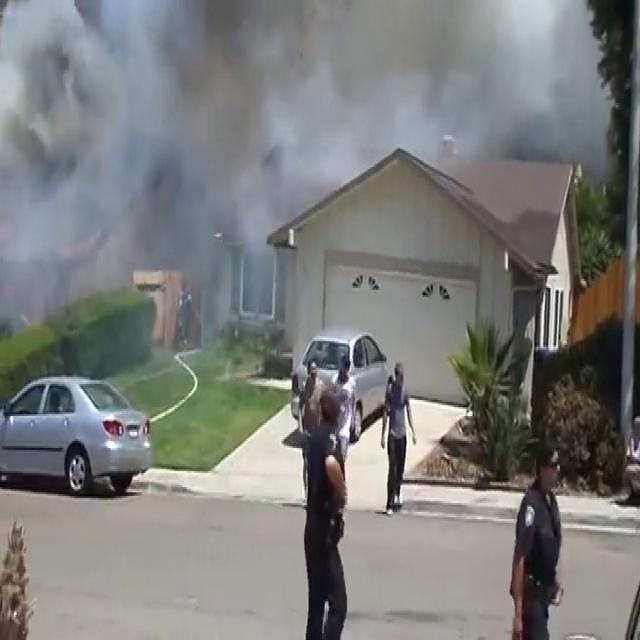Smoke: (0, 0, 315, 309), (251, 0, 612, 185)
